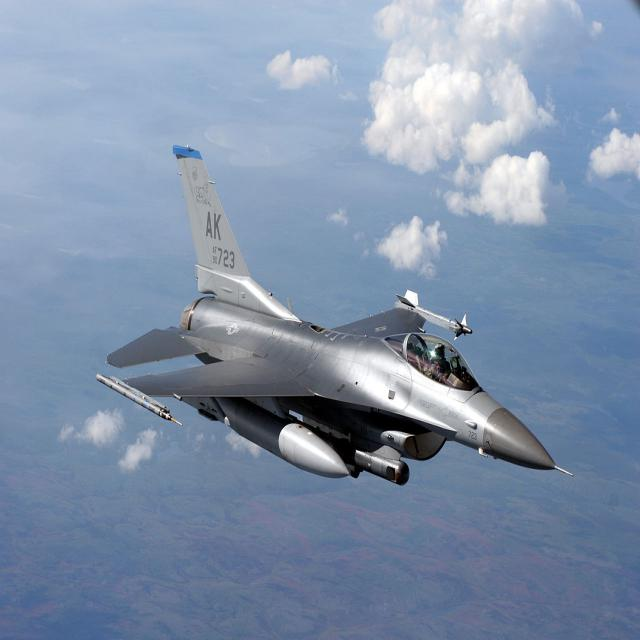MIL_Plane: (96, 143, 574, 487)
